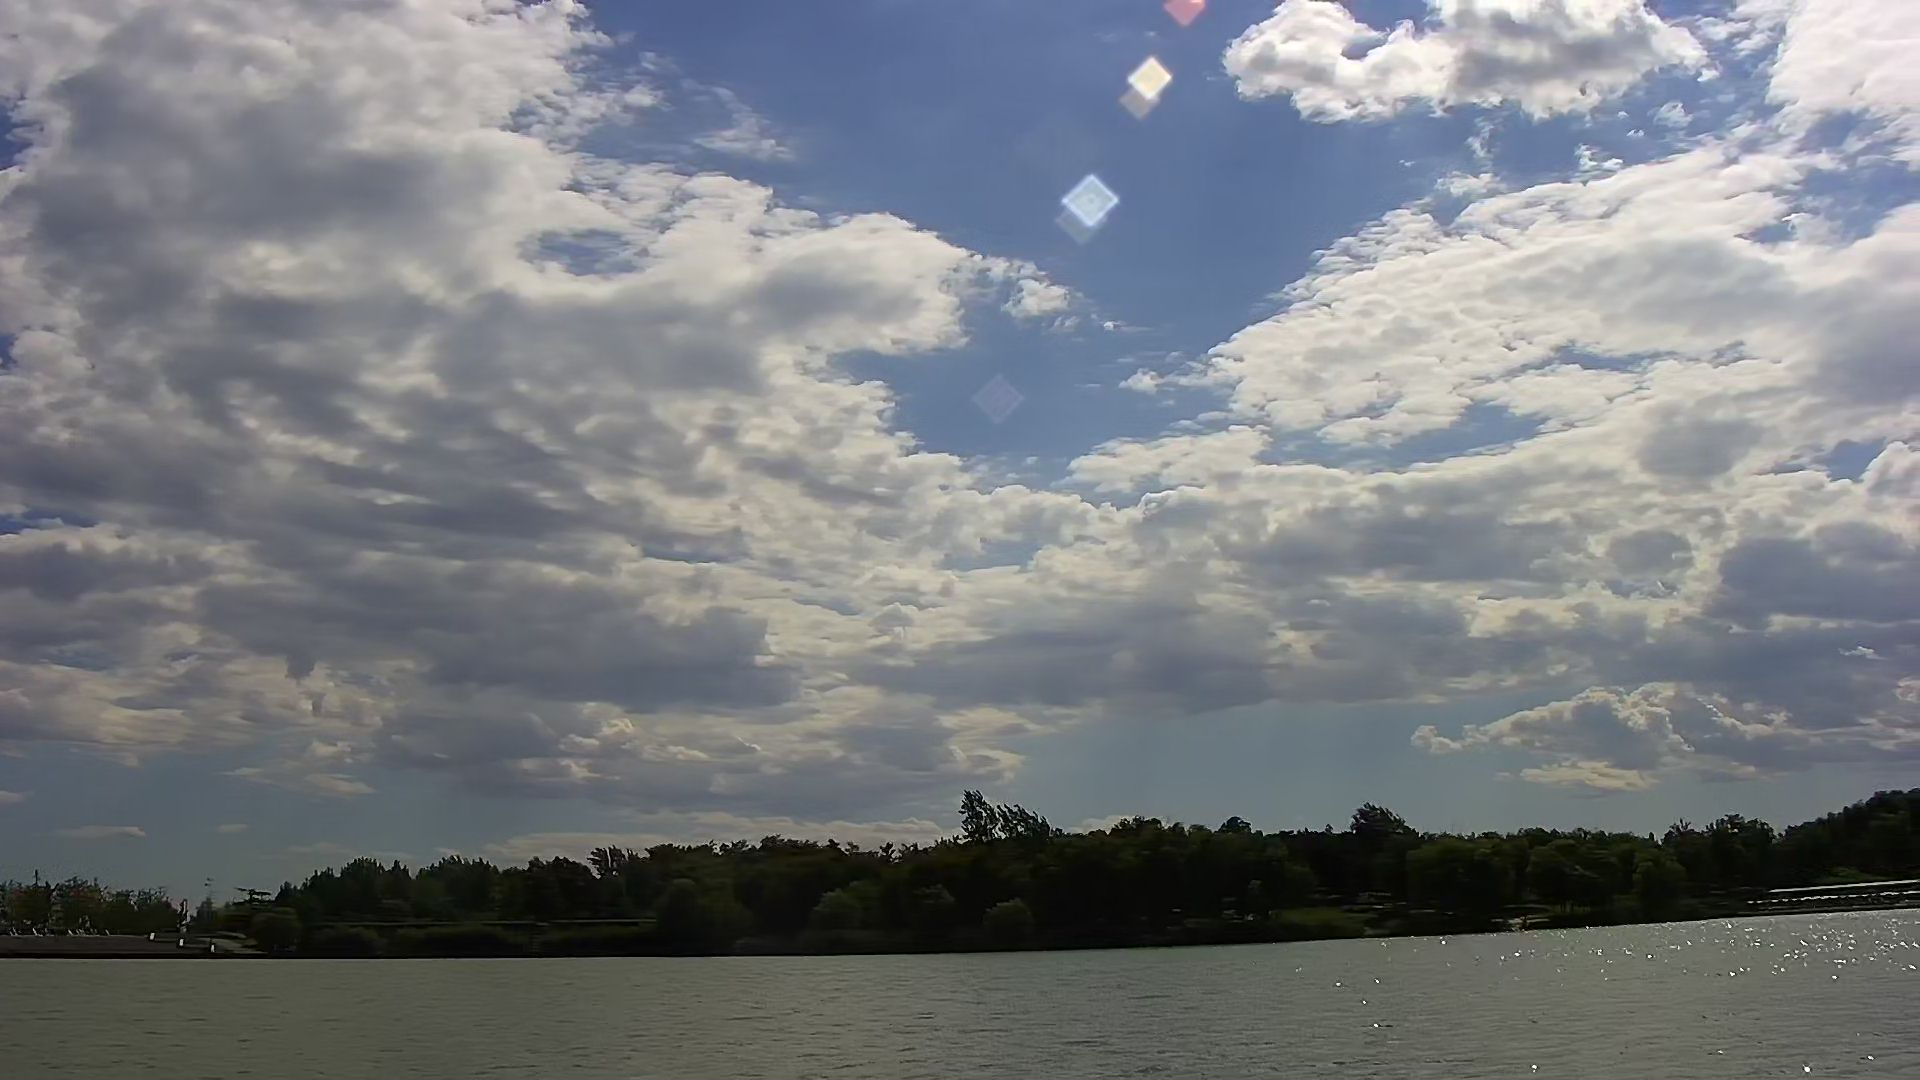harbor: (1775, 872, 1920, 905)
